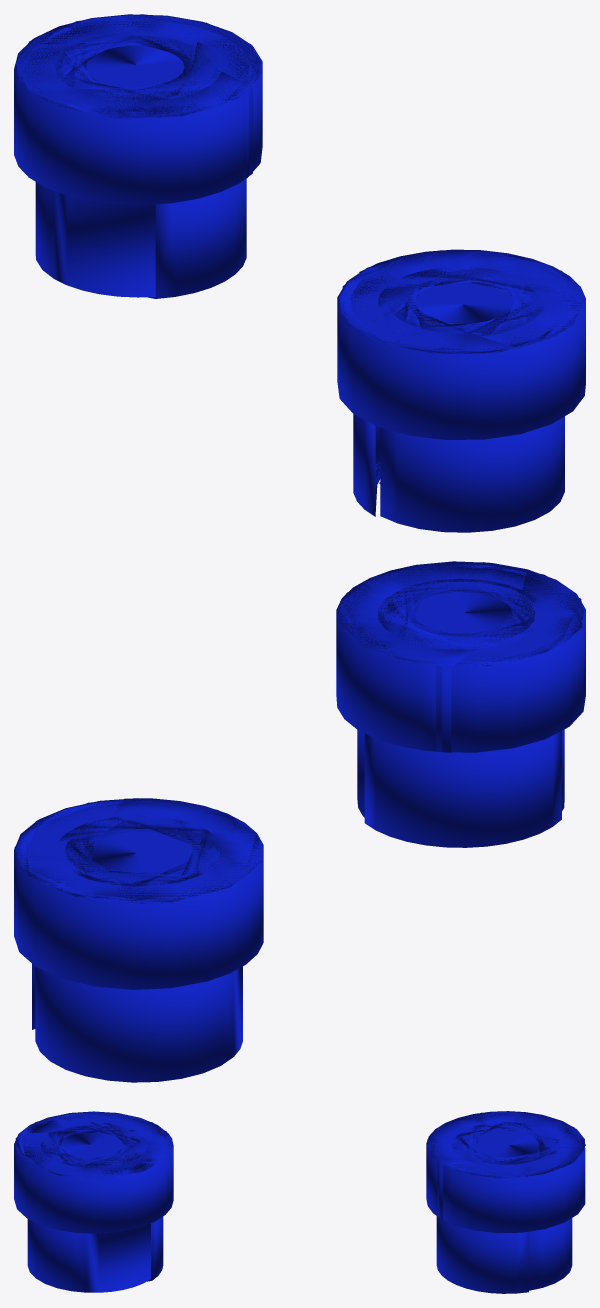
The model's file is tuyeau_element_000033.obj.
The picture shows the model from 3 angles, top to bottom: view 1: azimuth 30°, elevation 25°; view 2: azimuth 150°, elevation 25°; view 3: azimuth 270°, elevation 25°; orthographic projection. The views are drawn at different scales.
Visible parts, largest first — view 1: tuyeau1_Cube.014, tuyeau2_Cube.017; view 2: tuyeau2_Cube.017, tuyeau1_Cube.014; view 3: tuyeau1_Cube.014, tuyeau2_Cube.017.
Boxes of the visible parts, box(x1,y1,x2,y2) form: tuyeau1_Cube.014: box(14, 14, 262, 298); tuyeau2_Cube.017: box(337, 249, 585, 532); tuyeau2_Cube.017: box(336, 561, 585, 847); tuyeau1_Cube.014: box(14, 798, 263, 1082); tuyeau1_Cube.014: box(426, 1111, 585, 1293); tuyeau2_Cube.017: box(14, 1111, 173, 1292).
Bounding box in the file's own units: 3548 × 2917 × 12635.
